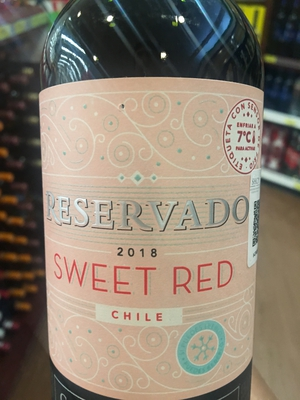reservado sweet red: (28, 12, 264, 400)
